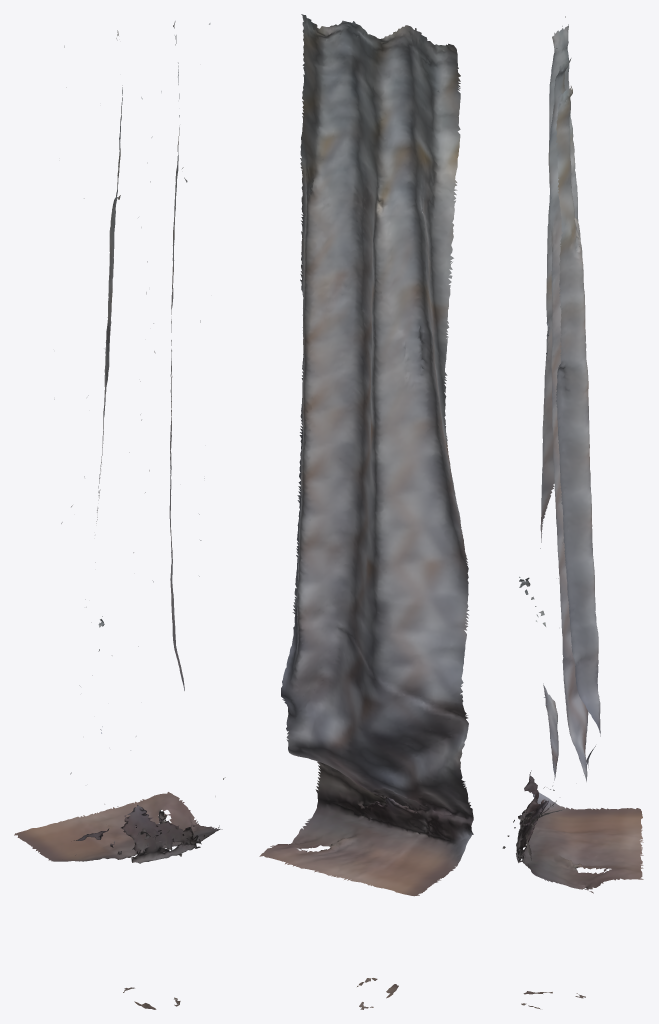
Rendered from apartment-full-96-2204fb119699.glb.
3 views of the same model, side by side, from view 1: azimuth 30°, elevation 25°; view 2: azimuth 150°, elevation 25°; view 3: azimuth 270°, elevation 25° (orthographic). The views are drawn at different scales.
Bounding box in the file's own units: 0.475 × 2.76 × 0.376.
